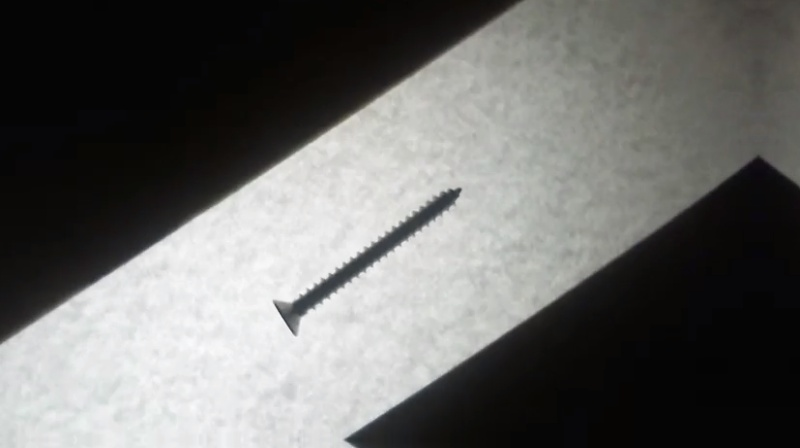S002: (268, 186, 464, 339)
